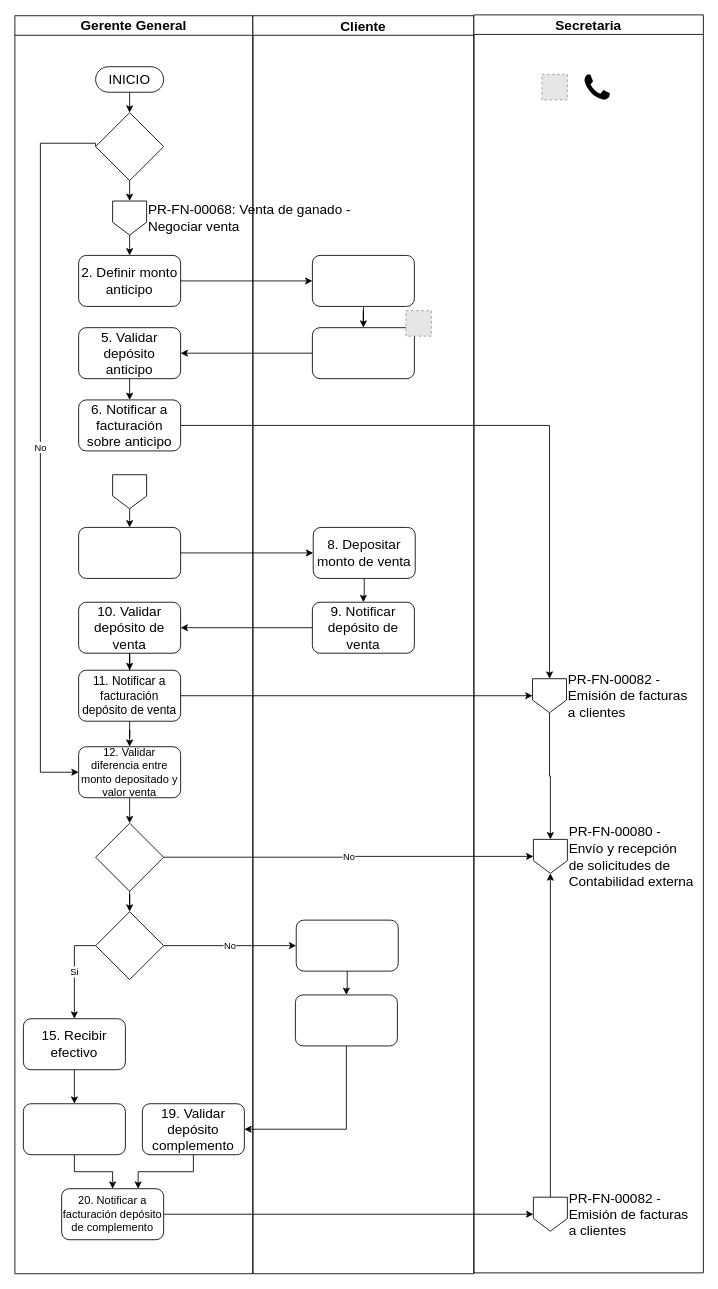
This 718x1289 diagram has some shape labels left out. Grey dashed boxes stand in for pictures. The centre of each missing label's shape, as x and y in pixels:
1. ¿Es pago anticipado?: the point at 129,146
13. ¿Existe diferencia?: the point at 129,856
14. ¿El pago complementario es en efectivo?: the point at 129,945
16. Depositar en cuenta propia: the point at 74,1129
17. Depositar complemento: the point at 346,945
18. Notificar depósito de complemento: the point at 346,1020
3. Depositar monto anticipo: the point at 363,280
4.Notificar depósito anticipo: the point at 363,353
7. Notificar monto de venta: the point at 129,552
PR-FN-00068: Venta de ganado: the point at 129,491
